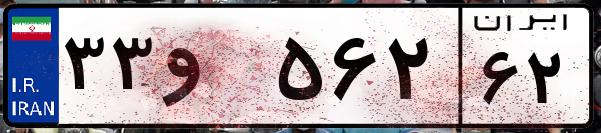2: (385, 28, 445, 110), (525, 38, 570, 115)
3: (57, 26, 110, 100), (110, 28, 158, 98)
5: (270, 28, 330, 110)
6: (330, 28, 385, 110), (475, 38, 525, 113)
و: (158, 20, 270, 120)
